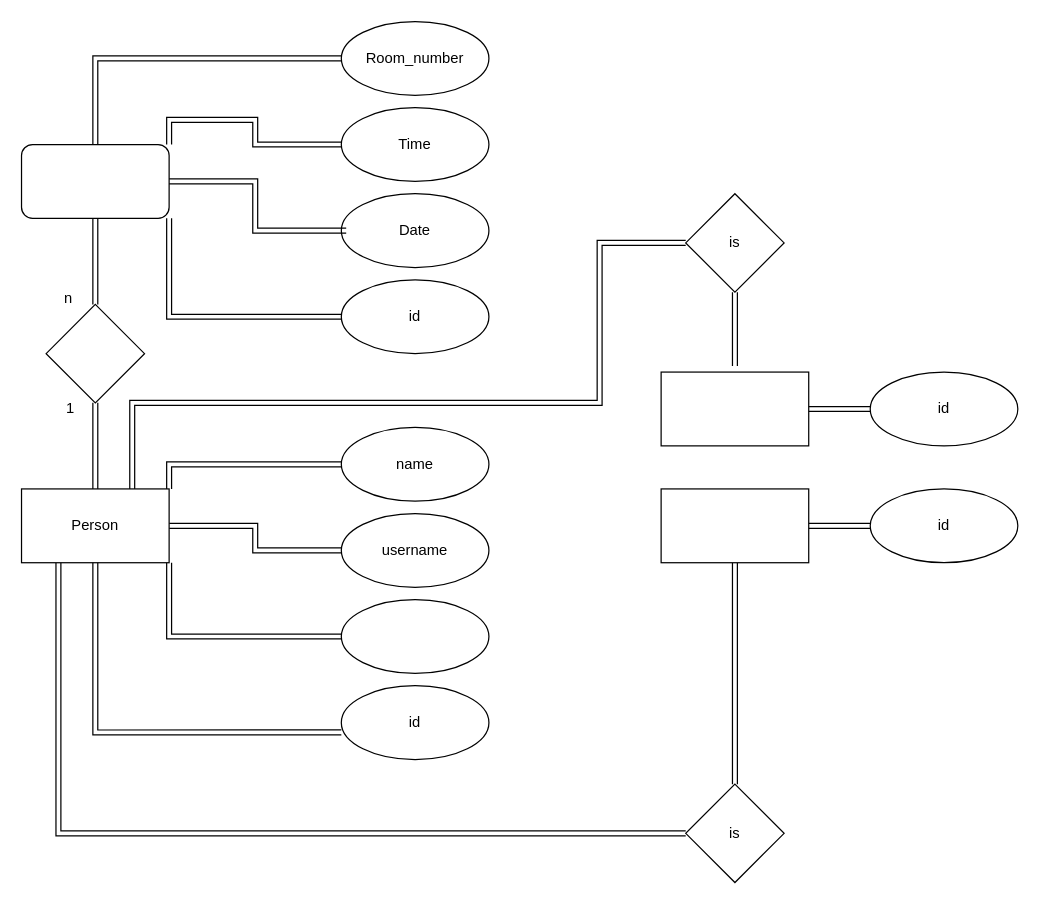
This 1039x904 diagram has some shape labels left out. The centre of each missing label's shape, as x and y in pixels:
"Admin" goes at point (734, 525).
"has" goes at point (95, 353).
"password" goes at point (414, 635).
"Request" goes at point (94, 180).
"User" goes at point (734, 408).
